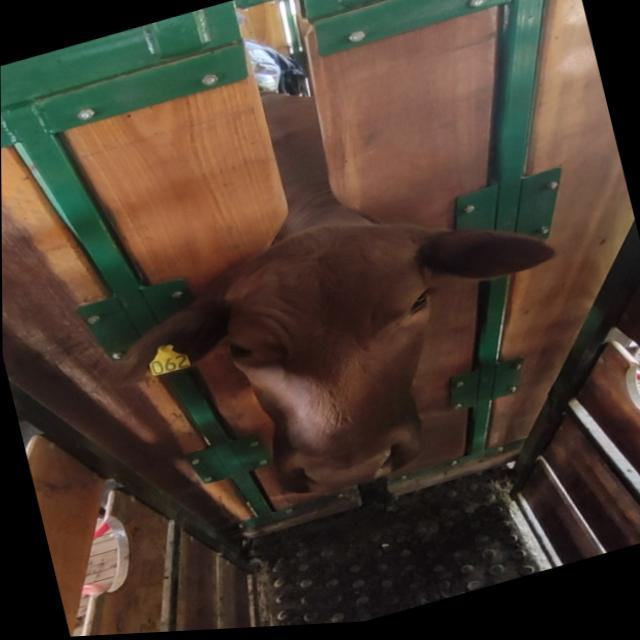cowFace: (206, 206, 475, 518)
